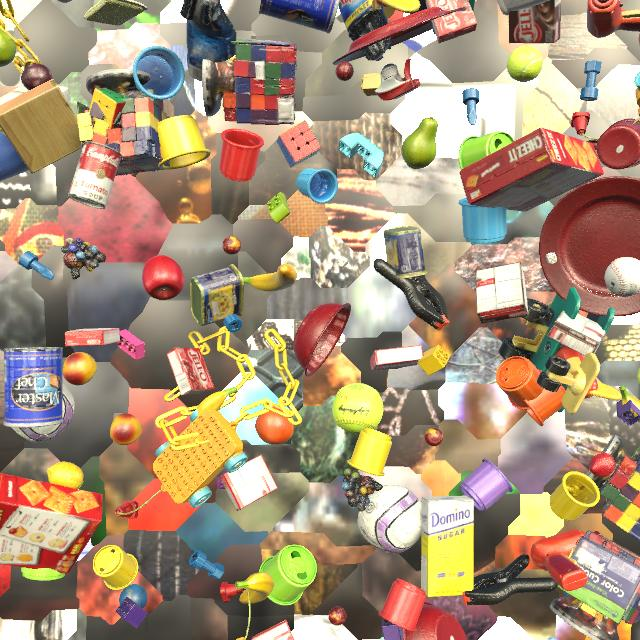ycb_002_master_chef_can: (4, 347, 63, 428), (259, 0, 340, 34)
ycb_003_cracker_box: (460, 128, 604, 212), (0, 473, 103, 574)
ycb_004_sugar_box: (421, 496, 474, 597), (0, 85, 71, 137)
ycb_005_tomato_soup_can: (68, 141, 122, 209)
ycb_008_pudding_box: (476, 262, 528, 324), (547, 311, 606, 356), (509, 0, 561, 43)
ycb_009_gelatin_box: (220, 455, 278, 511), (167, 348, 214, 395), (426, 0, 477, 43), (370, 345, 424, 371), (65, 328, 120, 347), (252, 619, 294, 640)
ycb_010_potted_meat_can: (190, 264, 244, 326), (384, 226, 428, 278)
ycb_011_banana: (190, 387, 237, 424), (243, 264, 297, 292), (235, 572, 274, 604), (619, 386, 640, 423)
ycb_012_strawberry: (589, 452, 616, 477)
ycb_013_apple: (142, 255, 184, 300)
ycb_014_lemon: (46, 462, 84, 489)
ycb_015_peach: (62, 352, 97, 385), (110, 413, 142, 445)
ycb_016_pear: (401, 117, 438, 169), (0, 29, 16, 67)
ycb_017_orange: (255, 406, 294, 445), (639, 33, 640, 45)
ycb_018_plum: (21, 63, 52, 90)
